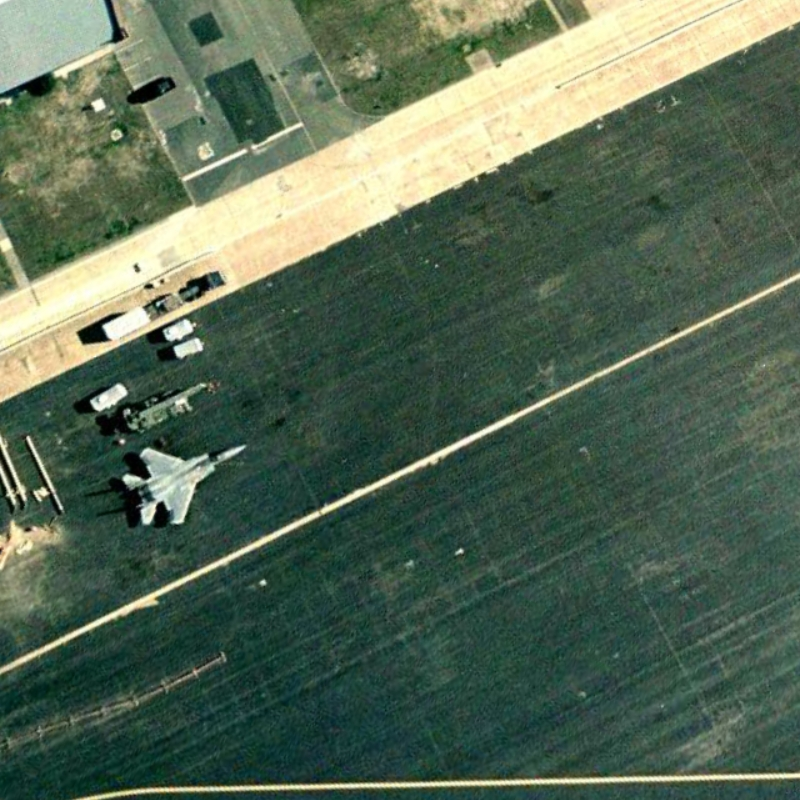A13: (115, 435, 254, 530)
